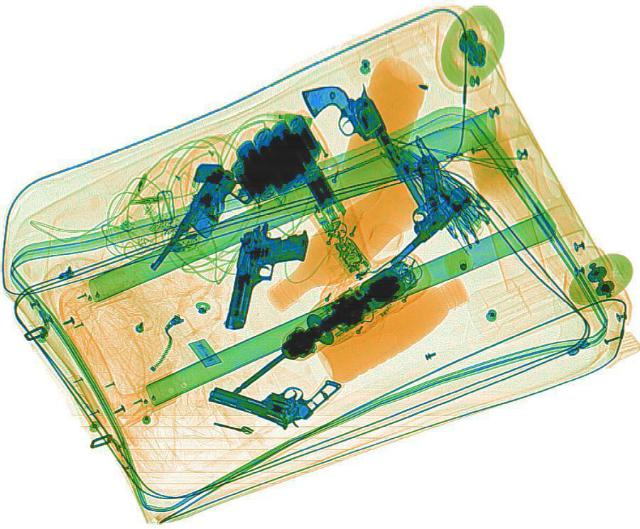Gun: (296, 71, 432, 230), (339, 151, 485, 266), (144, 164, 262, 283), (202, 346, 342, 437), (221, 219, 311, 334)
